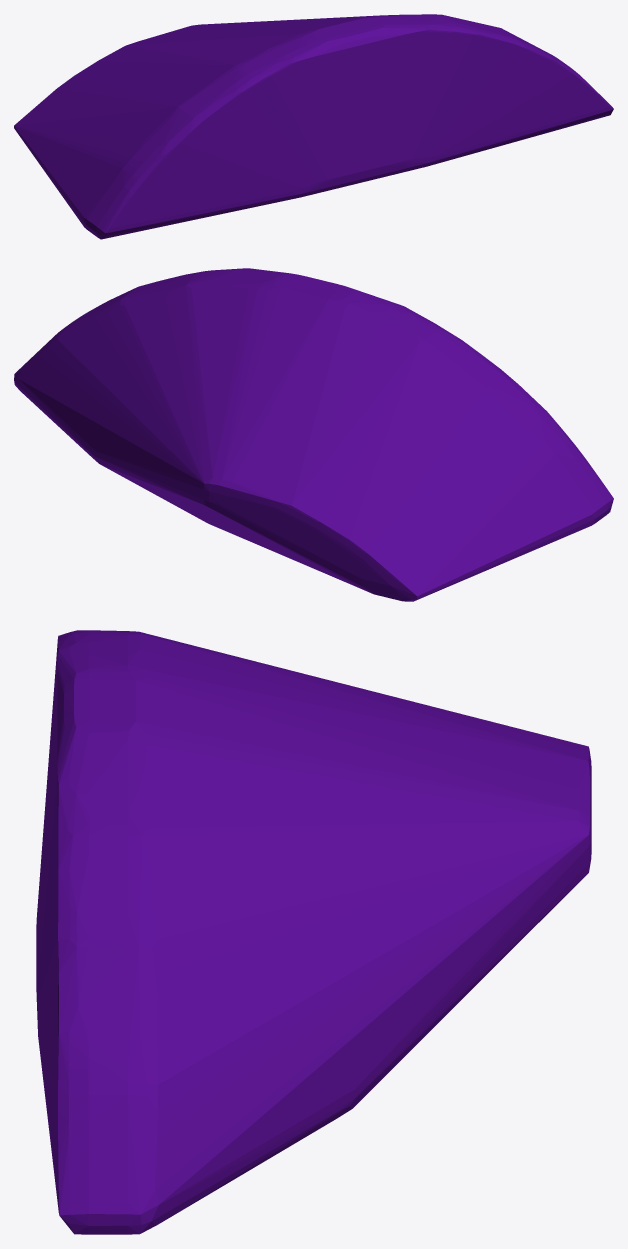
The model's file is left_hip_yaw_link_part_27.obj.
3 views of the same model, one above another, from view 1: azimuth 30°, elevation 25°; view 2: azimuth 150°, elevation 25°; view 3: azimuth 270°, elevation 25° (orthographic). The views are drawn at different scales.
Bounding box in the file's own units: 0.0874 × 0.0234 × 0.041.
